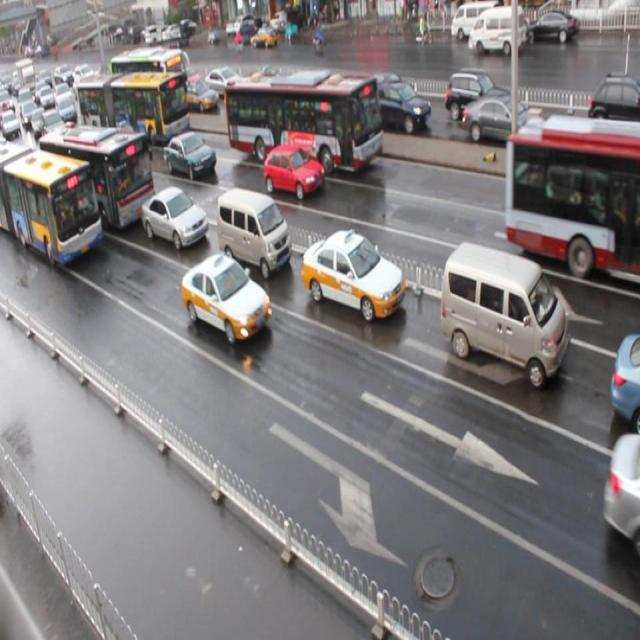car: (300, 228, 404, 321), (181, 251, 271, 344), (141, 185, 208, 250), (263, 143, 324, 198), (166, 131, 215, 178)
truck: (440, 240, 568, 386), (216, 186, 292, 276)
van: (504, 118, 640, 278), (224, 73, 382, 174), (38, 121, 156, 232), (1, 141, 103, 267), (78, 72, 190, 143)
